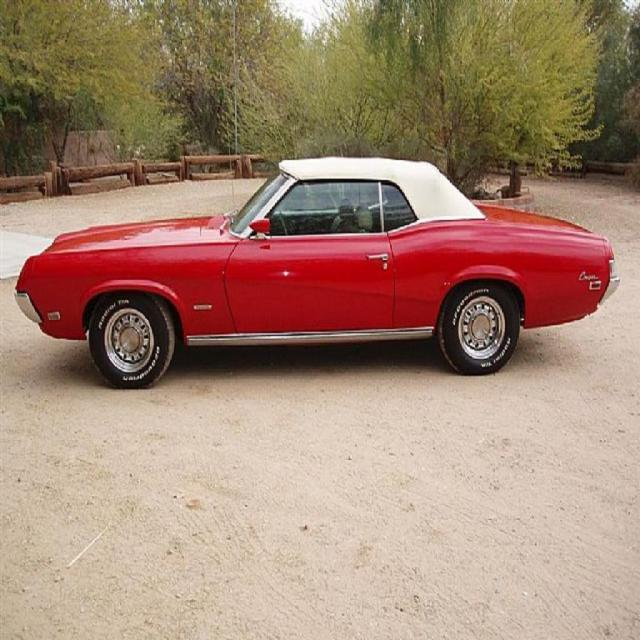car: (12, 112, 617, 389)
